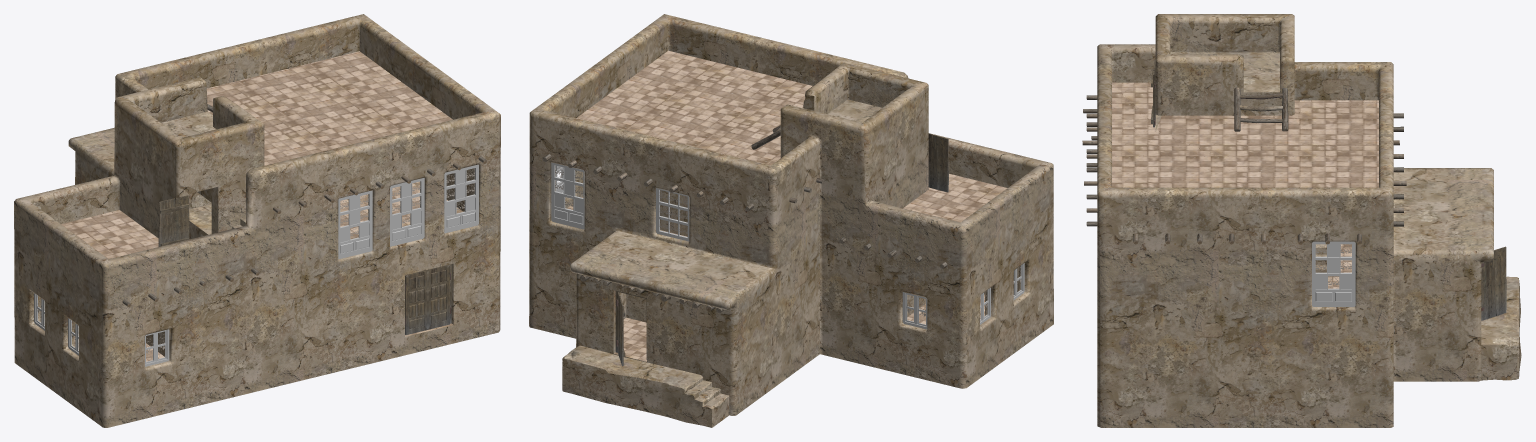
File: House_04.fbx
3 views of the same model, side by side, from view 1: azimuth 30°, elevation 25°; view 2: azimuth 150°, elevation 25°; view 3: azimuth 270°, elevation 25° (orthographic). The views are drawn at different scales.
Parts seen in each view (by area): view 1: polySurface2618; view 2: polySurface2618; view 3: polySurface2618.
Boxes of the visible parts, x1,y1,x2,y2 form: polySurface2618: (14,14,500,427); polySurface2618: (529,14,1053,427); polySurface2618: (1082,14,1521,427).
Size of the model in its own units: 15.98 by 8.92 by 13.73.
